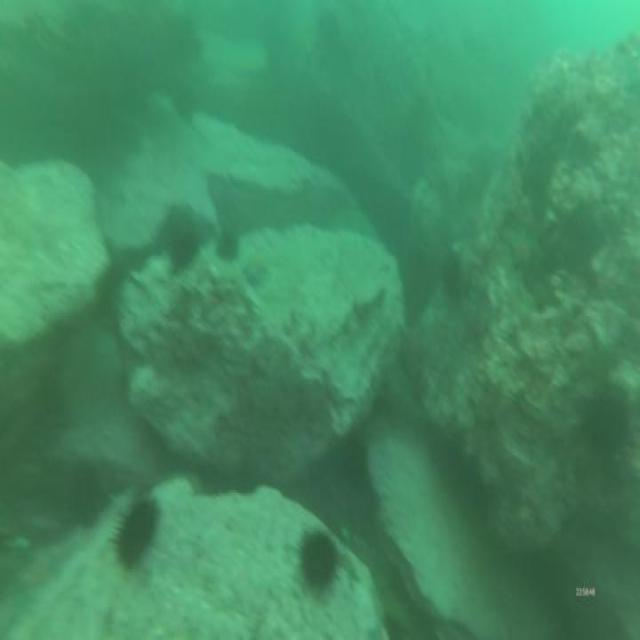echinus: (111, 497, 155, 568), (301, 531, 337, 591), (166, 224, 198, 266), (442, 244, 460, 292), (218, 231, 235, 264)
starfish: (524, 269, 562, 311), (506, 226, 537, 272), (245, 254, 265, 286)
